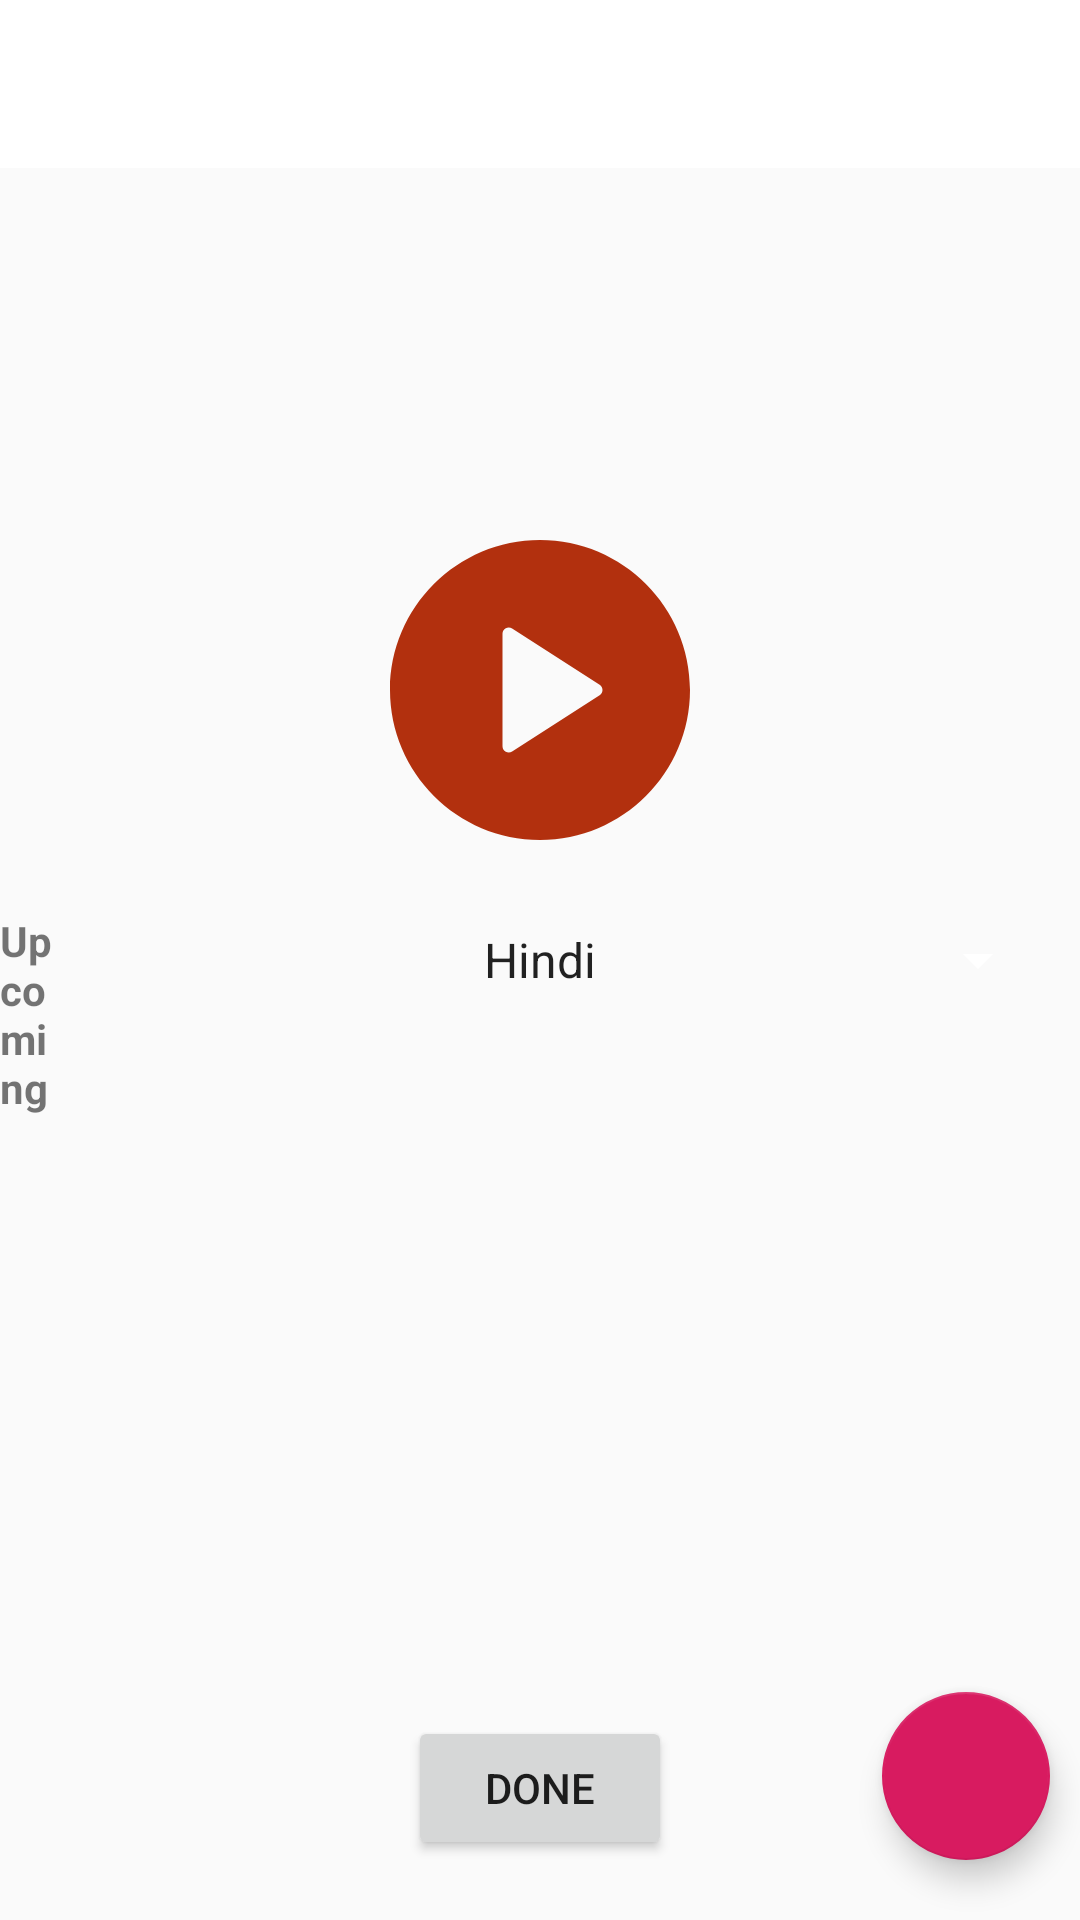

Icon click points for this 1080 x 1920 phone screenshot, format (x=x, y=y):
play: (x=540, y=690)
